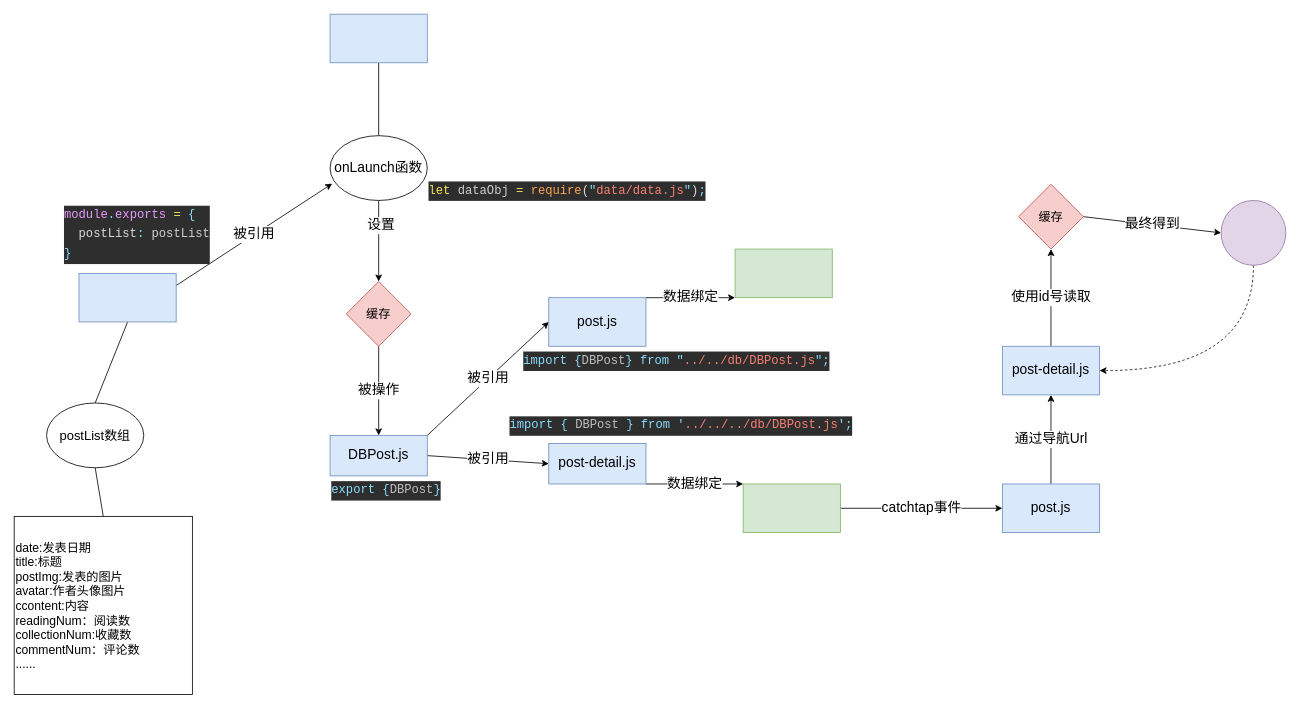
Image size: 1300x709. Some labels were removed from this diagram. Each missing label, with the centre of its shape:
app.js: point 378,38
data.js: point 127,297
post-detail.wxml: point 791,508
post.wxml: point 783,273
文章详情数据: point 1253,232
